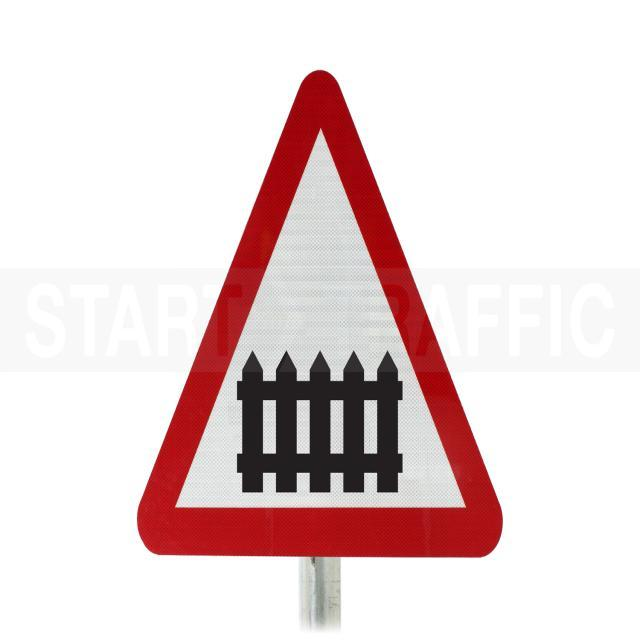guarded level crossing: (136, 70, 506, 553)
